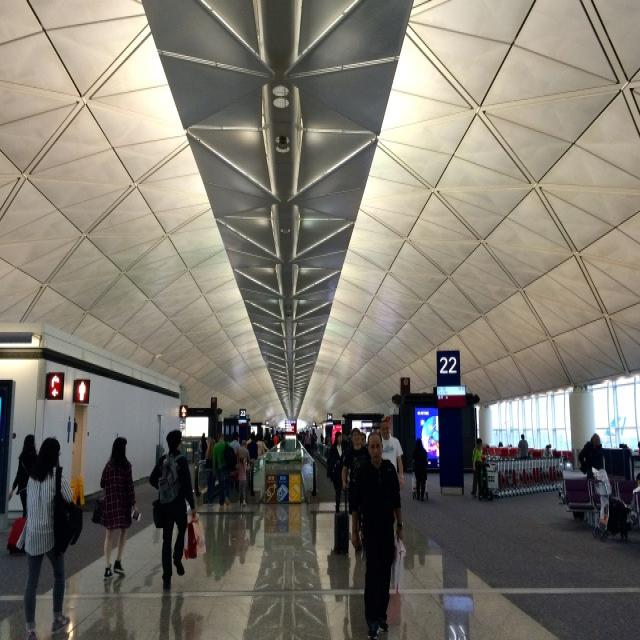body: (19, 434, 80, 638), (348, 431, 404, 638), (147, 428, 198, 593), (90, 435, 142, 581), (195, 424, 329, 461), (6, 432, 40, 520), (343, 427, 367, 540), (484, 437, 573, 460), (379, 420, 406, 492), (210, 431, 234, 512), (325, 429, 346, 515), (576, 432, 605, 479), (355, 428, 371, 508), (412, 437, 428, 504), (234, 455, 251, 509), (626, 468, 639, 535), (469, 435, 483, 496), (617, 436, 639, 463), (515, 432, 529, 469), (235, 438, 252, 466)
